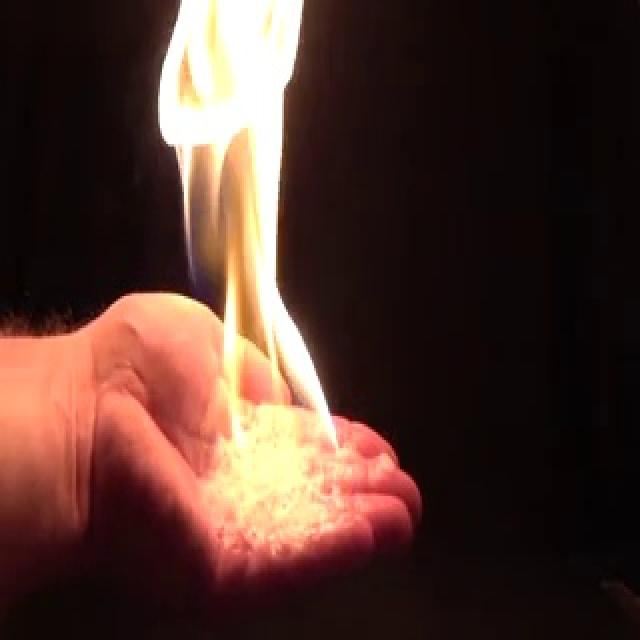fire: (154, 0, 332, 483)
